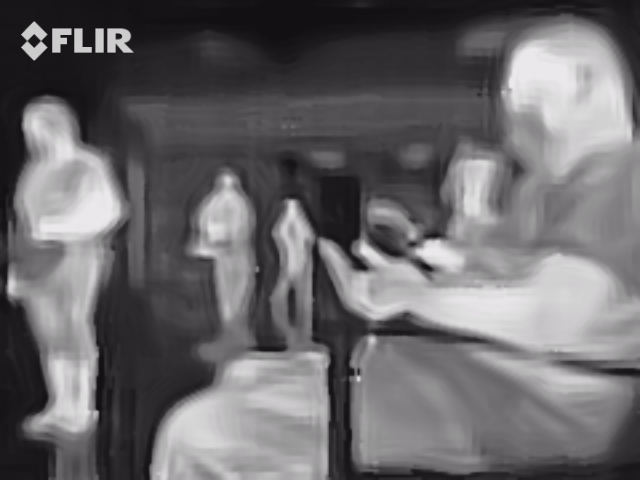head: (499, 22, 635, 183)
